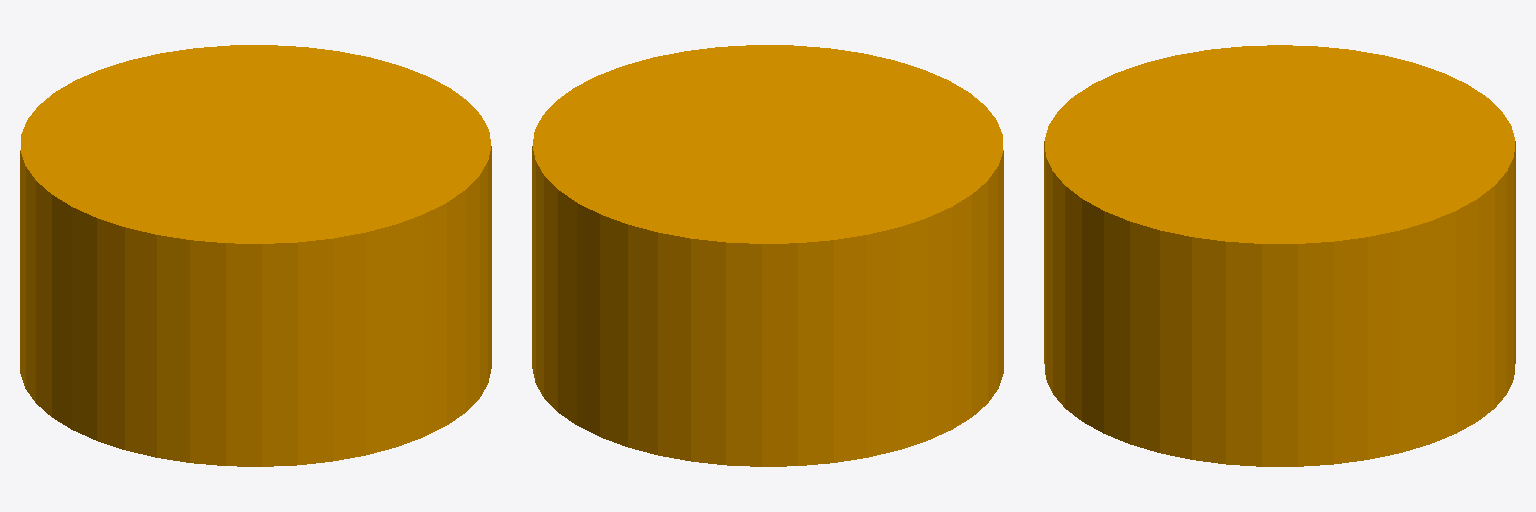
The robot description file, URDF, robot "bottle_cap":
<robot name="bottle_cap">
  <link name="bottle_cap_link">
    <visual>
      <origin xyz="0 0 0" rpy="0 0 0"/>
      <geometry>
        <mesh filename="bottle_cap.obj" scale="0.01 0.01 0.01"/>
      </geometry>
    </visual>
    <collision>
      <origin xyz="0 0 0" rpy="0 0 0"/>
      <geometry>
        <mesh filename="bottle_cap_coil.obj" scale="0.01 0.01 0.01"/>
      </geometry>
    </collision>
    <inertial>
      <origin xyz="0 0 0.00077" rpy="0 0 0"/>
      <mass value="0.1"/>
      <inertia ixx="0.001" iyy="0.001" izz="0.01"
               ixy="0" ixz="0" iyz="0"/>
    </inertial>
  </link>
</robot>

--- Facts derived from the render (not from the file) ---
The picture shows the robot from 3 angles, left to right: view 1: azimuth 30°, elevation 25°; view 2: azimuth 150°, elevation 25°; view 3: azimuth 270°, elevation 25°; orthographic projection.
Robot: bottle_cap — 1 links, 0 joints (none); root link bottle_cap_link; default pose: every joint at zero.
Visible links, largest first — view 1: bottle_cap_link; view 2: bottle_cap_link; view 3: bottle_cap_link.
Boxes of the visible links, box(x1,y1,x2,y2) form: bottle_cap_link: box(20, 45, 491, 466); bottle_cap_link: box(532, 45, 1003, 466); bottle_cap_link: box(1044, 45, 1515, 466).
Bounding box of the posed robot: 0.023 × 0.023 × 0.012 m (x, y, z).
1 mesh visuals loaded from 1 distinct referenced files (1 OBJ).